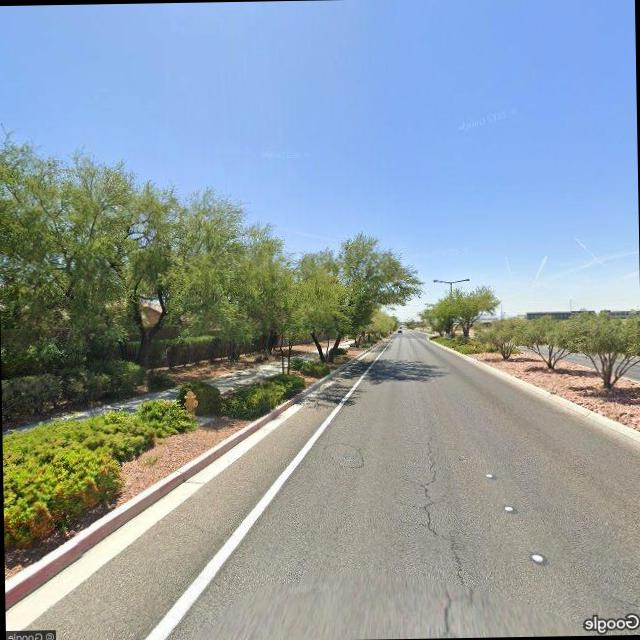crack: (405, 436, 470, 628)
